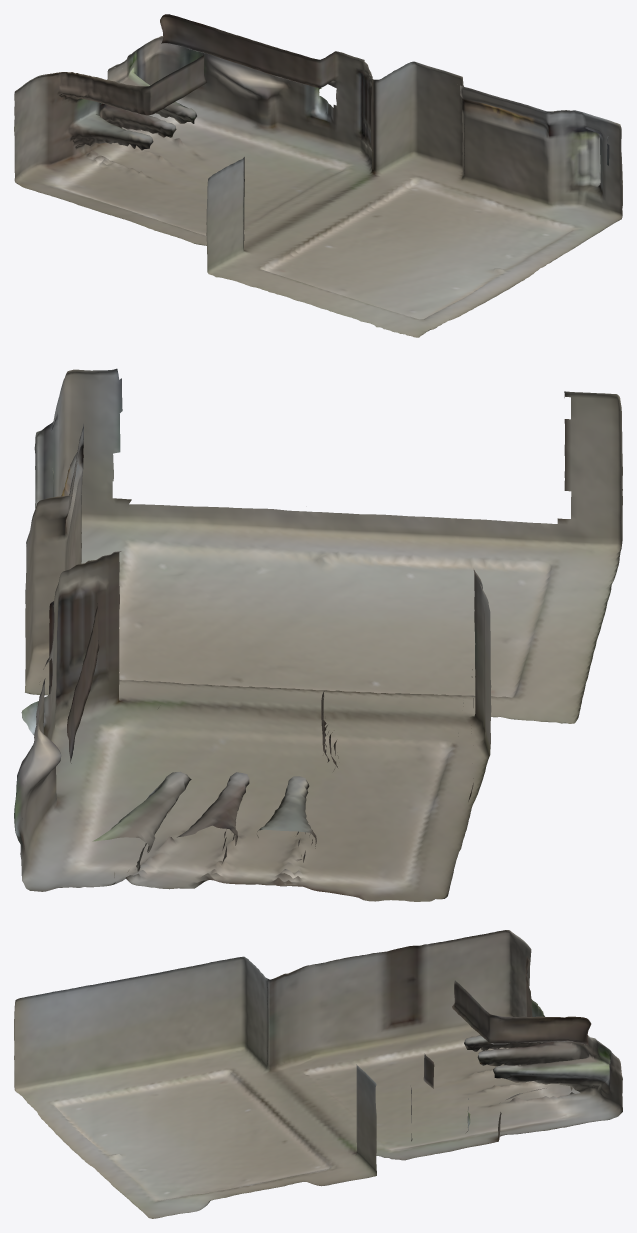
Rendered from scene_collider.glb.
3 renders of one model, top to bottom at view 1: azimuth 30°, elevation 25°; view 2: azimuth 150°, elevation 25°; view 3: azimuth 270°, elevation 25°, orthographic. The views are drawn at different scales.
Parts seen in each view (by area): view 1: world; view 2: world; view 3: world.
Boxes of the visible parts, bbox=[...] form: world: bbox=[14, 14, 622, 337]; world: bbox=[14, 368, 622, 901]; world: bbox=[14, 930, 622, 1218].
Bounding box in the file's own units: 5.71 × 1.34 × 7.36.
